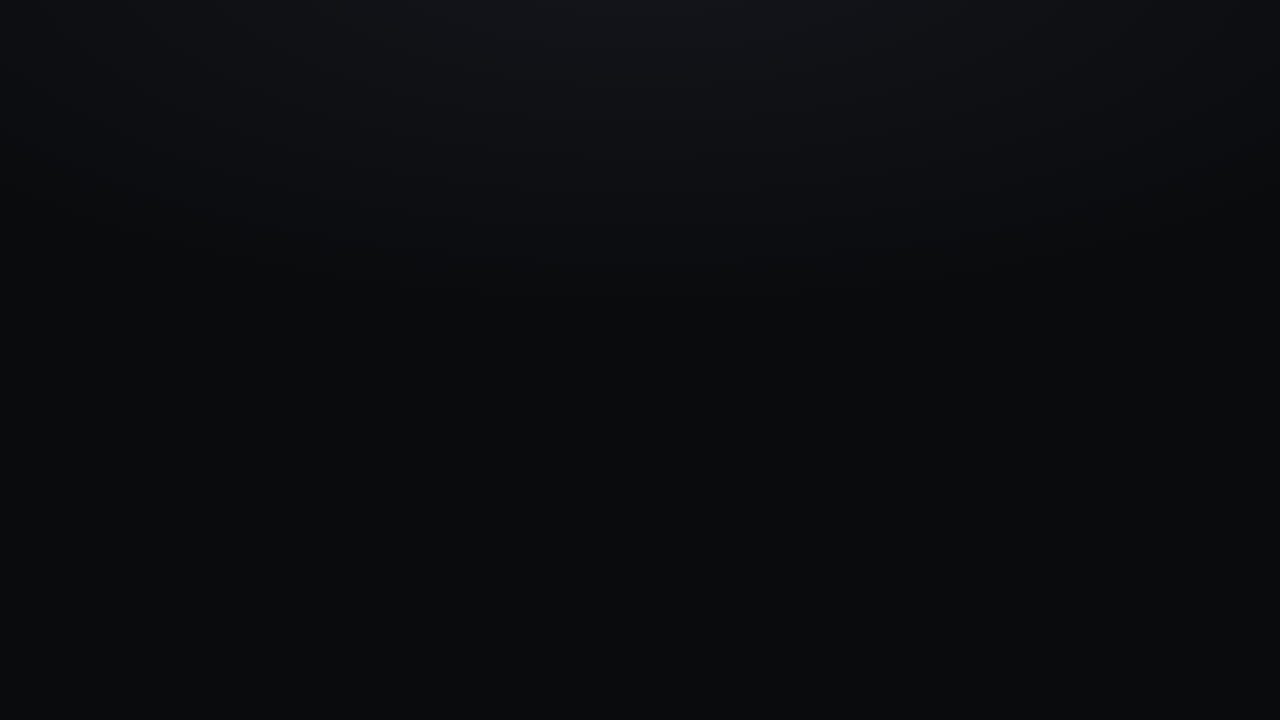
DEV-only 'Toggle free tier (dev)' command (D-31/D-32) › is searchable: query 'toggle' surfaces it, ranked AFTER any tool matches
The image size is (1280, 720).
Press k
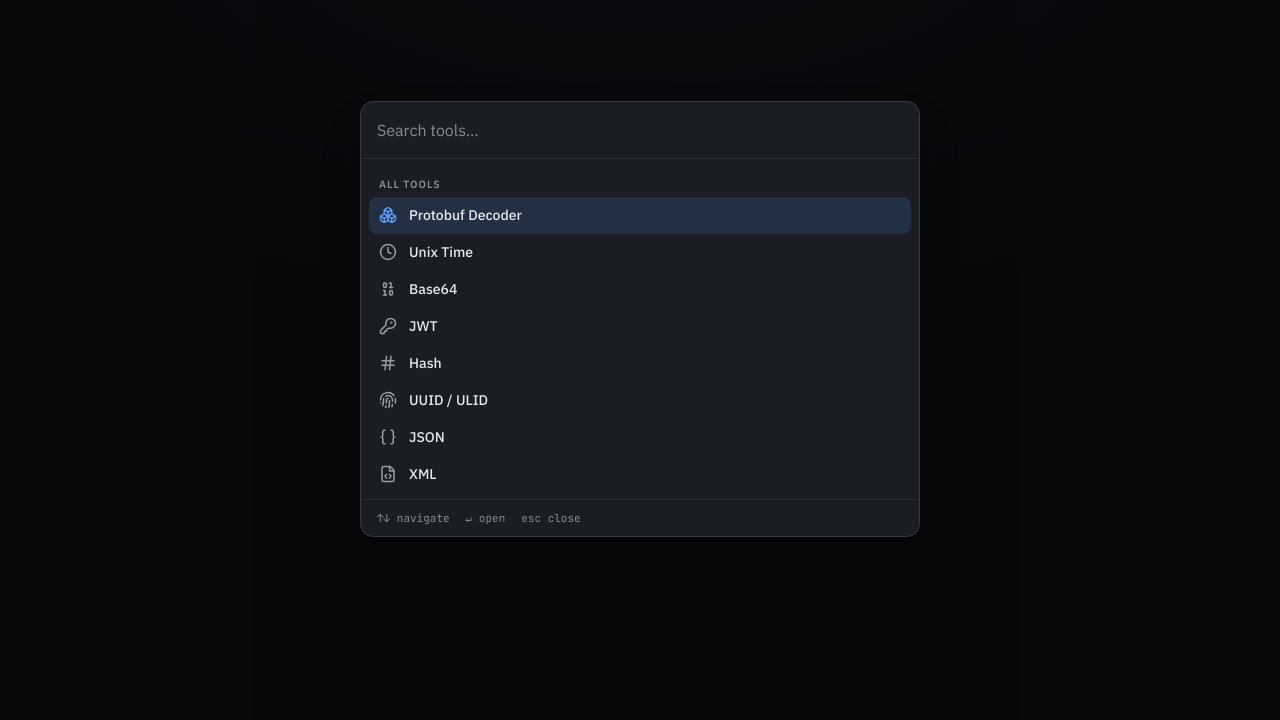
Type "toggle" into the field with placeholder "Search tools…" at [640, 130], box [377,118,903,142]
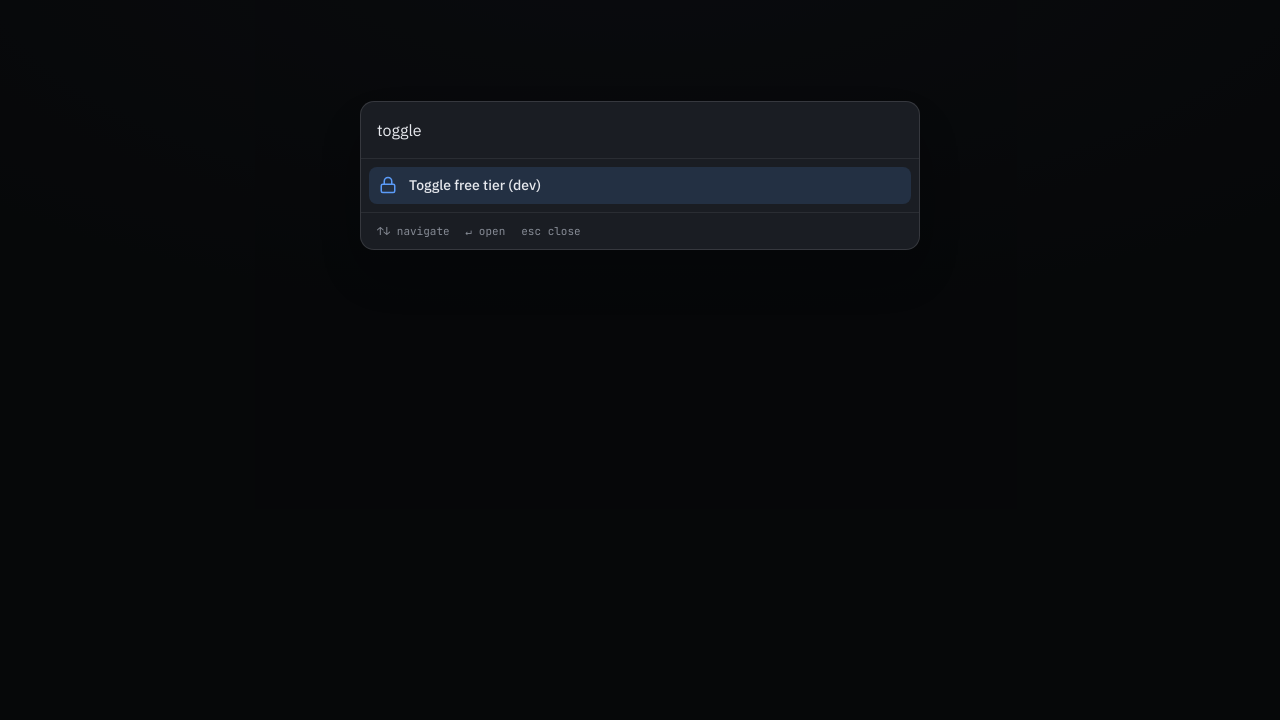
Check: the text "Toggle free tier (dev)" is shown, box [409,176,541,194]
Check: the button reads "Toggle free tier (dev)", box [369,167,911,204]
